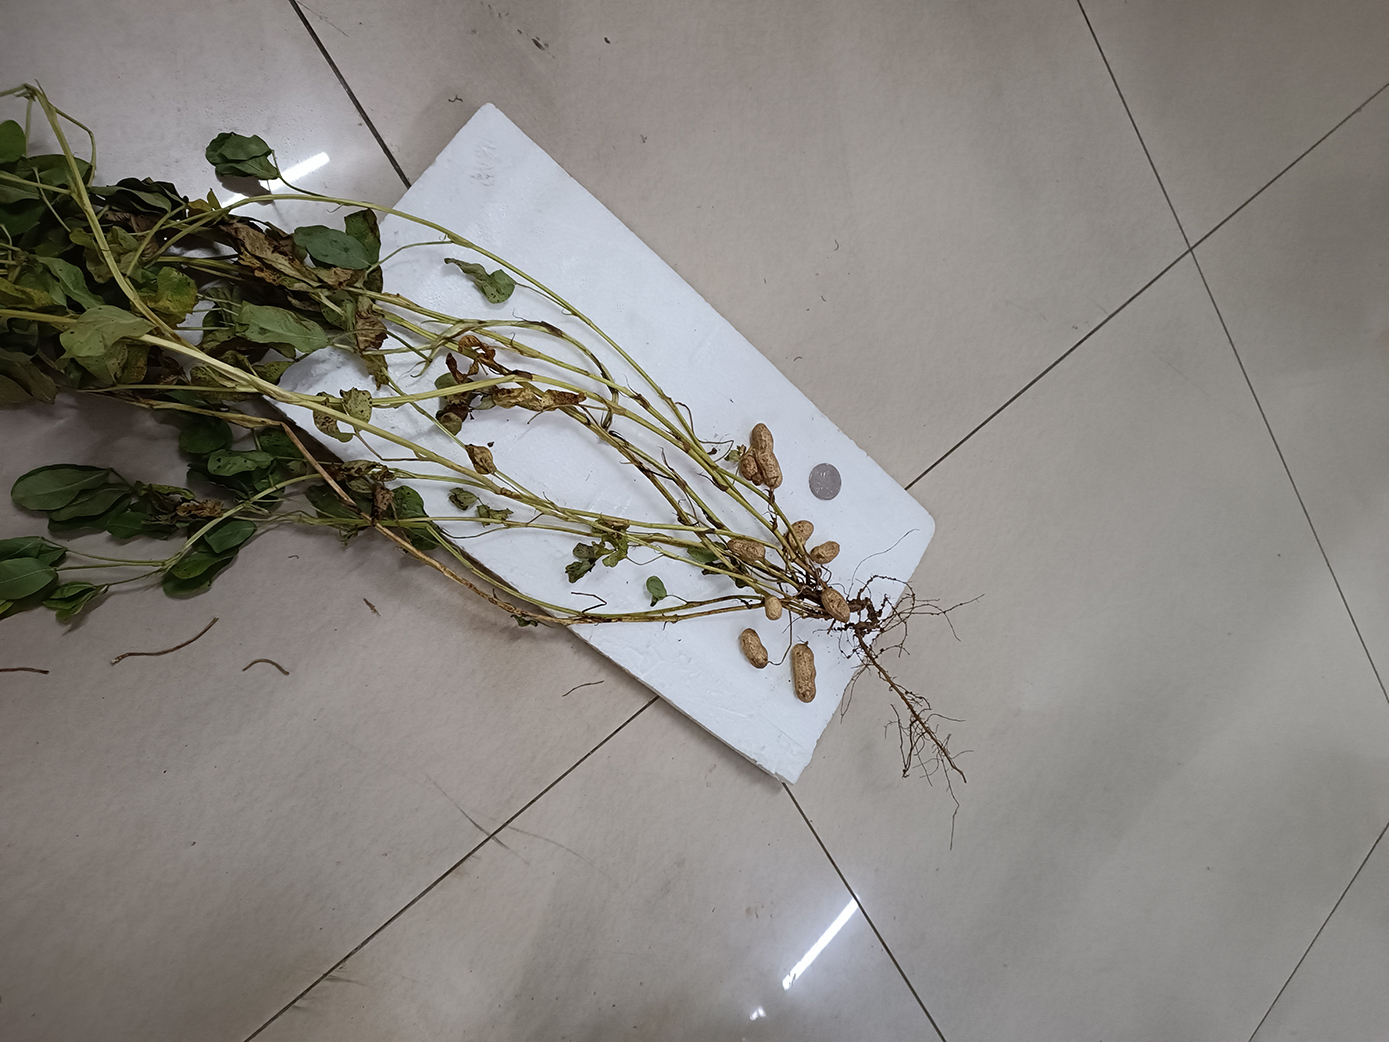h: (751, 422, 783, 488), (791, 642, 817, 703), (740, 628, 769, 668), (821, 587, 850, 623), (783, 520, 814, 549), (727, 539, 766, 561), (738, 455, 762, 485), (809, 542, 841, 564), (763, 594, 783, 620)
